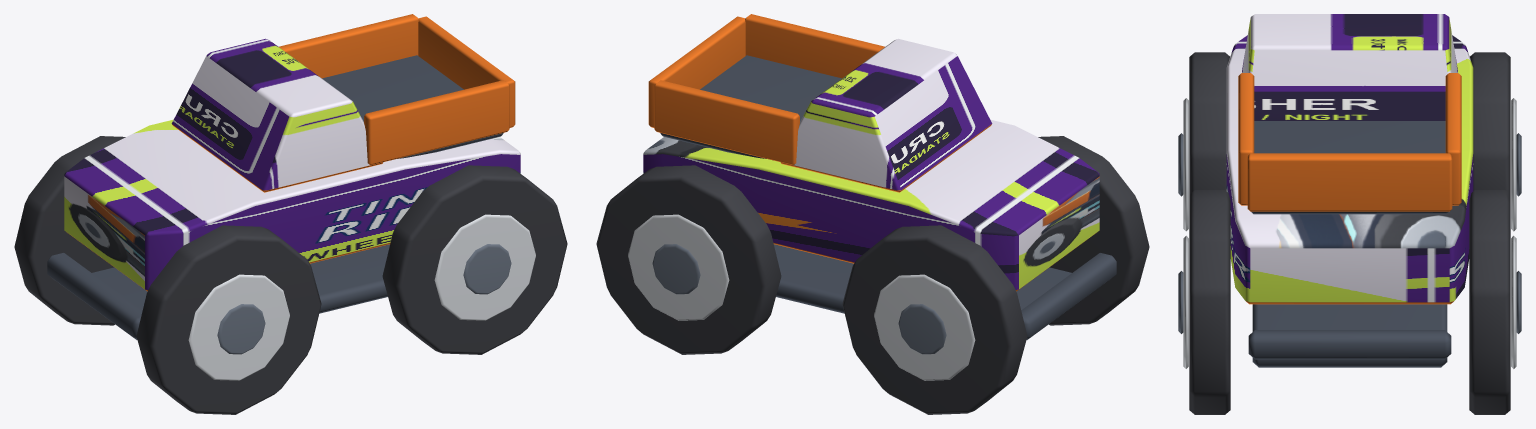
3 renders of one model, left to right at view 1: azimuth 30°, elevation 25°; view 2: azimuth 150°, elevation 25°; view 3: azimuth 270°, elevation 25°, orthographic. The views are drawn at different scales.
Visible parts, largest first — view 1: BW-01_connected_shell, BW-01_cabin, Tire, Tire.002, Tire.001, cargo side, Rim, Rim.002, cargo side.001, cargo floor, underbody, cargo tail (+3 smaller); view 2: BW-01_connected_shell, BW-01_cabin, Tire.001, Tire.003, Tire, cargo side.001, Rim.001, Rim.003, cargo side, cargo floor, underbody, cargo tail (+3 smaller); view 3: BW-01_connected_shell, BW-01_cabin, cargo tail, Tire.002, Tire.003, cargo floor, underbody, rear bumper, Tire, Tire.001, cargo side, cargo side.001 (+8 smaller).
Boxes of the visible parts, bbox=[...] form: BW-01_connected_shell: bbox=[64, 119, 520, 291]; BW-01_cabin: bbox=[171, 38, 382, 192]; Tire: bbox=[136, 225, 321, 414]; Tire.002: bbox=[382, 165, 567, 354]; Tire.001: bbox=[14, 136, 125, 325]; cargo side: bbox=[364, 80, 509, 165]; Rim: bbox=[188, 274, 289, 380]; Rim.002: bbox=[434, 214, 535, 320]; cargo side.001: bbox=[279, 14, 418, 78]; cargo floor: bbox=[322, 55, 503, 158]; underbody: bbox=[92, 244, 389, 313]; cargo tail: bbox=[418, 16, 515, 127]; BW-01_connected_shell: bbox=[643, 119, 1099, 291]; BW-01_cabin: bbox=[781, 38, 992, 192]; Tire.001: bbox=[842, 225, 1027, 414]; Tire.003: bbox=[596, 165, 781, 354]; Tire: bbox=[1038, 136, 1149, 325]; cargo side.001: bbox=[654, 80, 799, 165]; Rim.001: bbox=[874, 274, 975, 380]; Rim.003: bbox=[628, 214, 729, 320]; cargo side: bbox=[745, 14, 884, 78]; cargo floor: bbox=[660, 55, 841, 158]; underbody: bbox=[774, 244, 1071, 313]; cargo tail: bbox=[648, 16, 745, 127]; BW-01_connected_shell: bbox=[1226, 35, 1473, 304]; BW-01_cabin: bbox=[1242, 14, 1457, 120]; cargo tail: bbox=[1247, 153, 1452, 211]; Tire.002: bbox=[1189, 190, 1230, 414]; Tire.003: bbox=[1469, 190, 1510, 414]; cargo floor: bbox=[1251, 121, 1448, 214]; underbody: bbox=[1252, 304, 1447, 367]; rear bumper: bbox=[1248, 330, 1451, 359]; Tire: bbox=[1189, 52, 1229, 194]; Tire.001: bbox=[1470, 52, 1510, 194]; cargo side: bbox=[1238, 73, 1254, 205]; cargo side.001: bbox=[1445, 73, 1461, 205].
Bounding box in the file's own units: 350 × 210 × 217.
